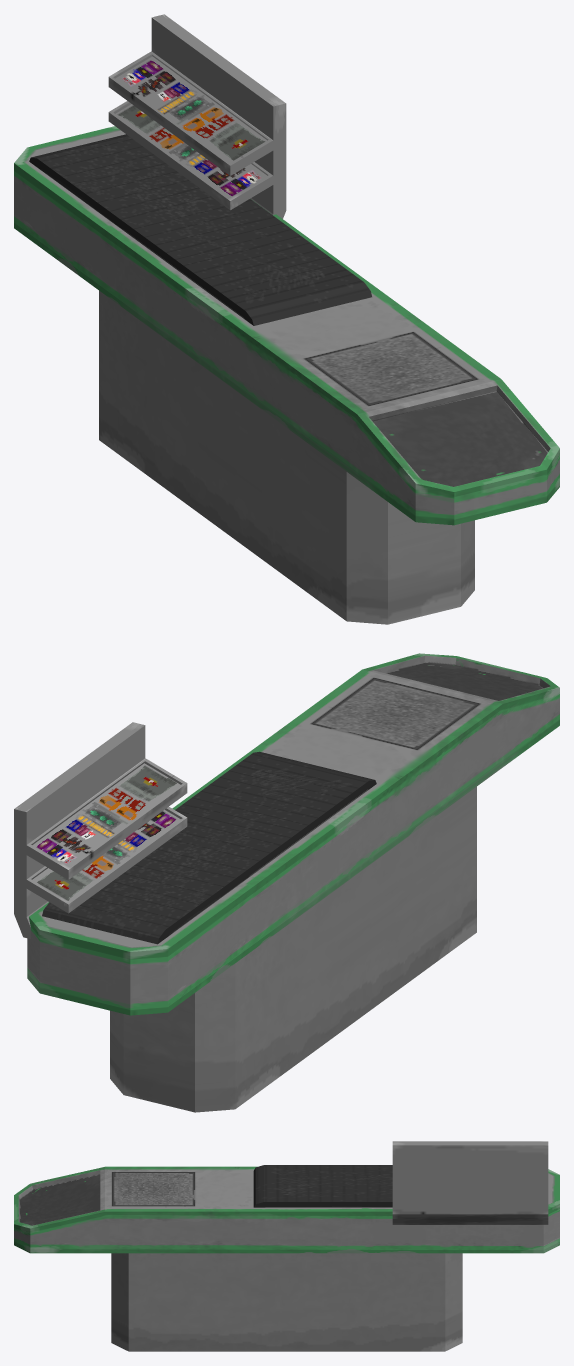
Rendered from checkout.fbx.
The picture shows the model from 3 angles, top to bottom: view 1: azimuth 30°, elevation 25°; view 2: azimuth 150°, elevation 25°; view 3: azimuth 270°, elevation 25°; orthographic projection. The views are drawn at different scales.
Visible parts, largest first — view 1: checkout_base, checkout_conveyour, checkout_shelf; view 2: checkout_base, checkout_conveyour, checkout_shelf; view 3: checkout_base, checkout_shelf, checkout_conveyour.
Part boxes in pixels (x1=…): checkout_base: x1=14, y1=126, x2=559, y2=624; checkout_conveyour: x1=29, y1=134, x2=371, y2=325; checkout_shelf: x1=108, y1=14, x2=286, y2=218; checkout_base: x1=27, y1=653, x2=559, y2=1112; checkout_conveyour: x1=42, y1=751, x2=376, y2=944; checkout_shelf: x1=14, y1=722, x2=187, y2=938; checkout_base: x1=14, y1=1166, x2=559, y2=1351; checkout_shelf: x1=392, y1=1141, x2=548, y2=1224; checkout_conveyour: x1=253, y1=1165, x2=392, y2=1207.
Size of the model in its own units: 250 by 513 by 1200.
